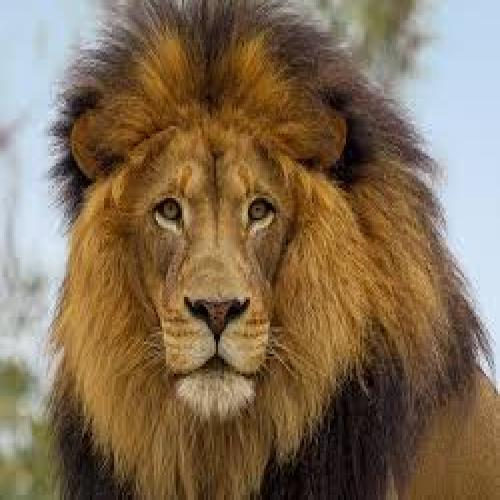lion-endangered: (65, 10, 496, 494)
